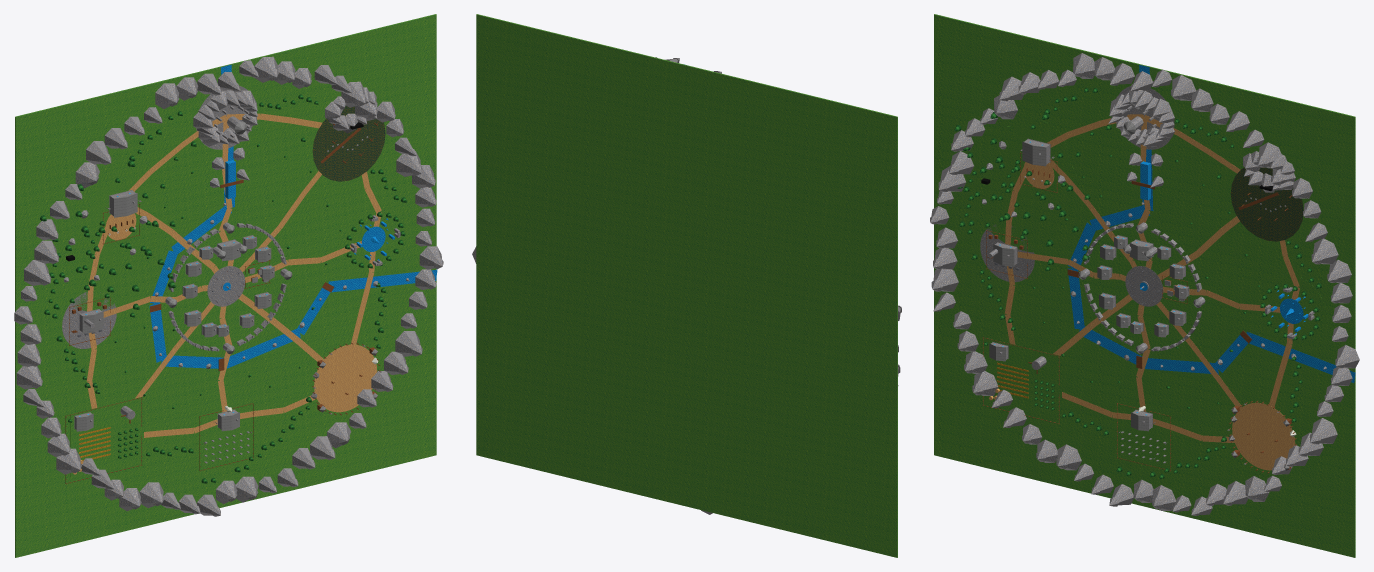
File: red_world_map_3d.obj
3 views of the same model, side by side, from view 1: azimuth 30°, elevation 25°; view 2: azimuth 150°, elevation 25°; view 3: azimuth 330°, elevation 25° (orthographic).
Visible parts, largest first — view 1: world__material_grass__part_00, world__material_rock__part_00, world__material_dark_grass__part_00, world__material_path__part_00, world__material_water__part_00, world__material_snow__part_00, world__material_stone__part_00, world__material_sand__part_00, world__material_field__part_00, world__material_marsh__part_00, world__material_leaf__part_00, world__material_roof_blue__part_00 (+5 smaller); view 2: world__material_grass__part_00; view 3: world__material_grass__part_00, world__material_rock__part_00, world__material_dark_grass__part_00, world__material_path__part_00, world__material_water__part_00, world__material_snow__part_00, world__material_stone__part_00, world__material_sand__part_00, world__material_field__part_00, world__material_leaf__part_00, world__material_marsh__part_00, world__material_roof_blue__part_00 (+5 smaller).
Boxes of the visible parts, x1,y1,x2,y2 form: world__material_grass__part_00: (15, 14, 436, 557); world__material_rock__part_00: (14, 56, 441, 515); world__material_dark_grass__part_00: (46, 170, 409, 469); world__material_path__part_00: (86, 113, 381, 437); world__material_water__part_00: (149, 64, 437, 368); world__material_snow__part_00: (25, 69, 443, 516); world__material_stone__part_00: (62, 106, 288, 463); world__material_sand__part_00: (105, 213, 377, 412); world__material_field__part_00: (70, 396, 143, 476); world__material_marsh__part_00: (312, 106, 385, 181); world__material_leaf__part_00: (40, 94, 406, 483); world__material_roof_blue__part_00: (114, 121, 292, 431); world__material_grass__part_00: (476, 14, 897, 557); world__material_grass__part_00: (934, 14, 1355, 557); world__material_rock__part_00: (931, 53, 1359, 514); world__material_dark_grass__part_00: (964, 119, 1327, 469); world__material_path__part_00: (1004, 114, 1299, 442); world__material_water__part_00: (1067, 65, 1355, 382); world__material_snow__part_00: (930, 65, 1345, 515); world__material_stone__part_00: (980, 106, 1205, 463); world__material_sand__part_00: (1023, 162, 1295, 470); world__material_field__part_00: (988, 338, 1061, 418); world__material_leaf__part_00: (954, 88, 1321, 478); world__material_marsh__part_00: (1230, 167, 1303, 241); world__material_roof_blue__part_00: (1022, 121, 1201, 431).
Size of the model in its own units: 609 by 606 by 45.
27 materials, 21 textured.
